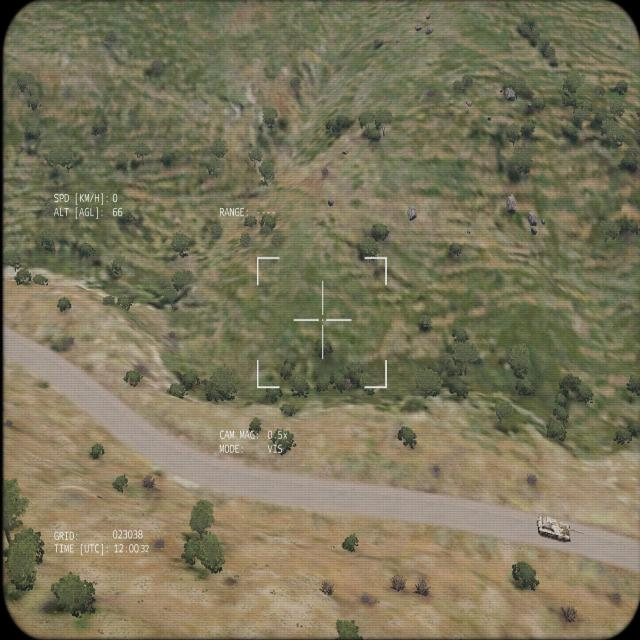tank: (536, 513, 584, 545)
